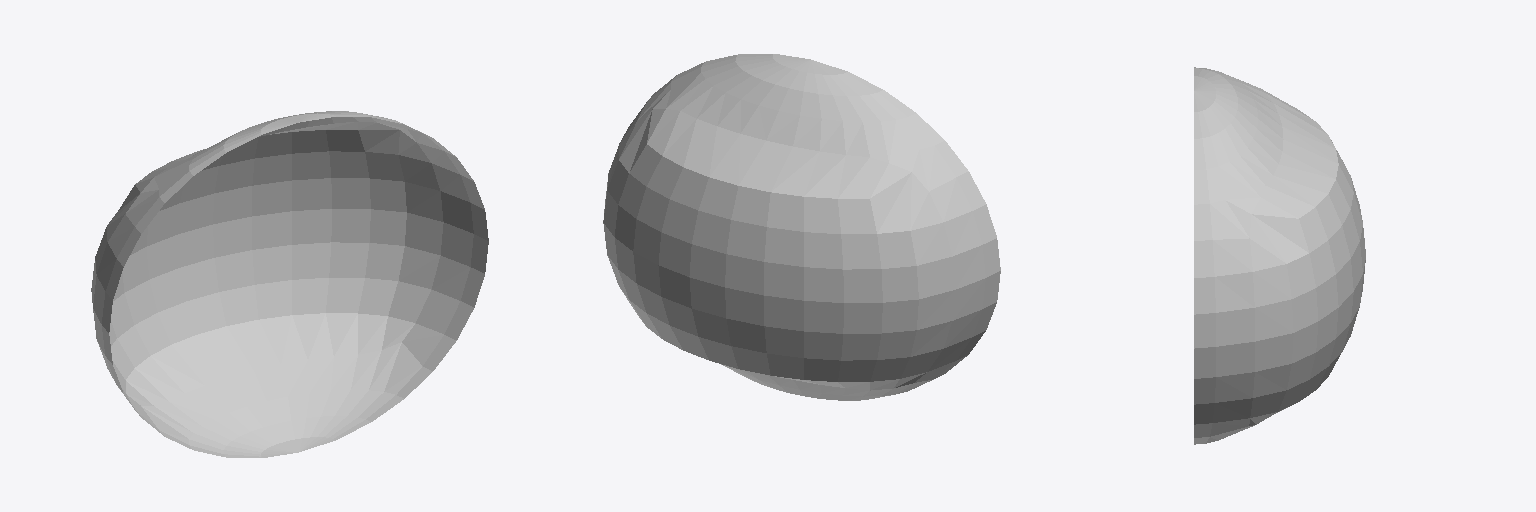
The model's file is DJ_Astronaut_Helm.obj.
3 views of the same model, side by side, from view 1: azimuth 30°, elevation 25°; view 2: azimuth 150°, elevation 25°; view 3: azimuth 270°, elevation 25° (orthographic).
Visible parts, largest first — view 1: Sphere_Sphere.001; view 2: Sphere_Sphere.001; view 3: Sphere_Sphere.001.
Part boxes in pixels (x1,y1,x2,y2): Sphere_Sphere.001: (91,111,488,457); Sphere_Sphere.001: (603,54,1000,400); Sphere_Sphere.001: (1194,67,1365,444).
Size of the model in its own units: 3.28 by 2.72 by 1.29.